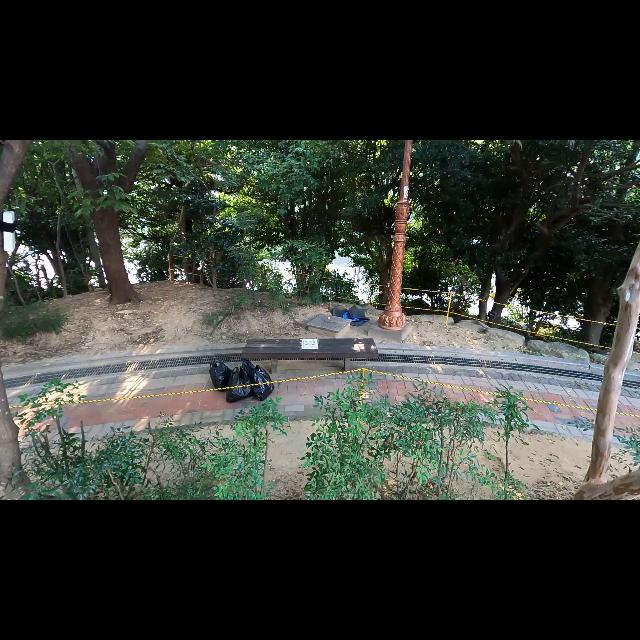trash: (224, 362, 252, 402), (209, 358, 237, 394), (247, 366, 275, 400), (332, 304, 371, 328), (240, 356, 262, 394)
